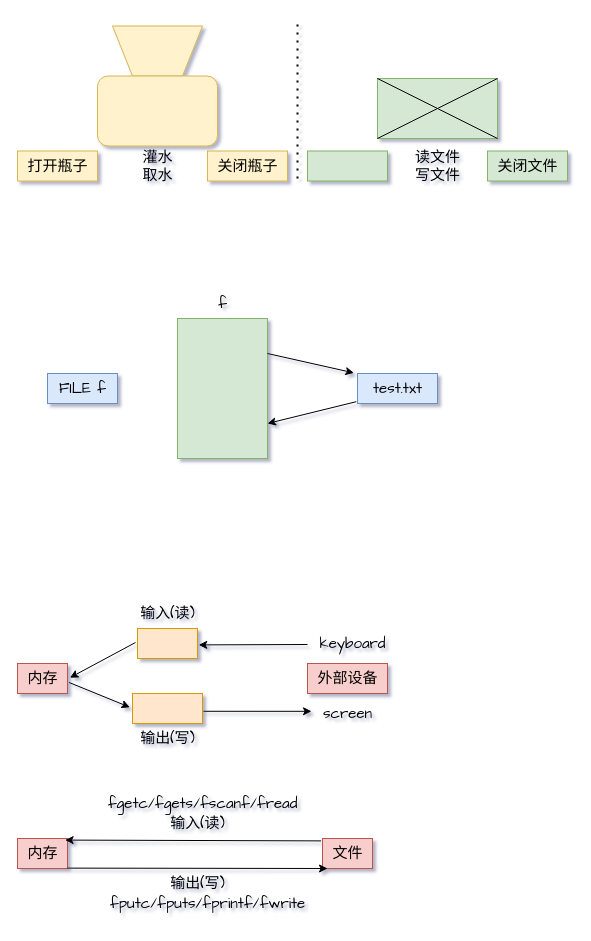
The diagram is 591 pixels wide and 941 high, and some of its shapes have lost their labels. Here are the shapes that lost their labels. From the top down, the centre of each, then its label:
(347,165): 打开文件
(222,388): 文件名 文件状态 ...
(167,643): scanf
(167,708): printf
